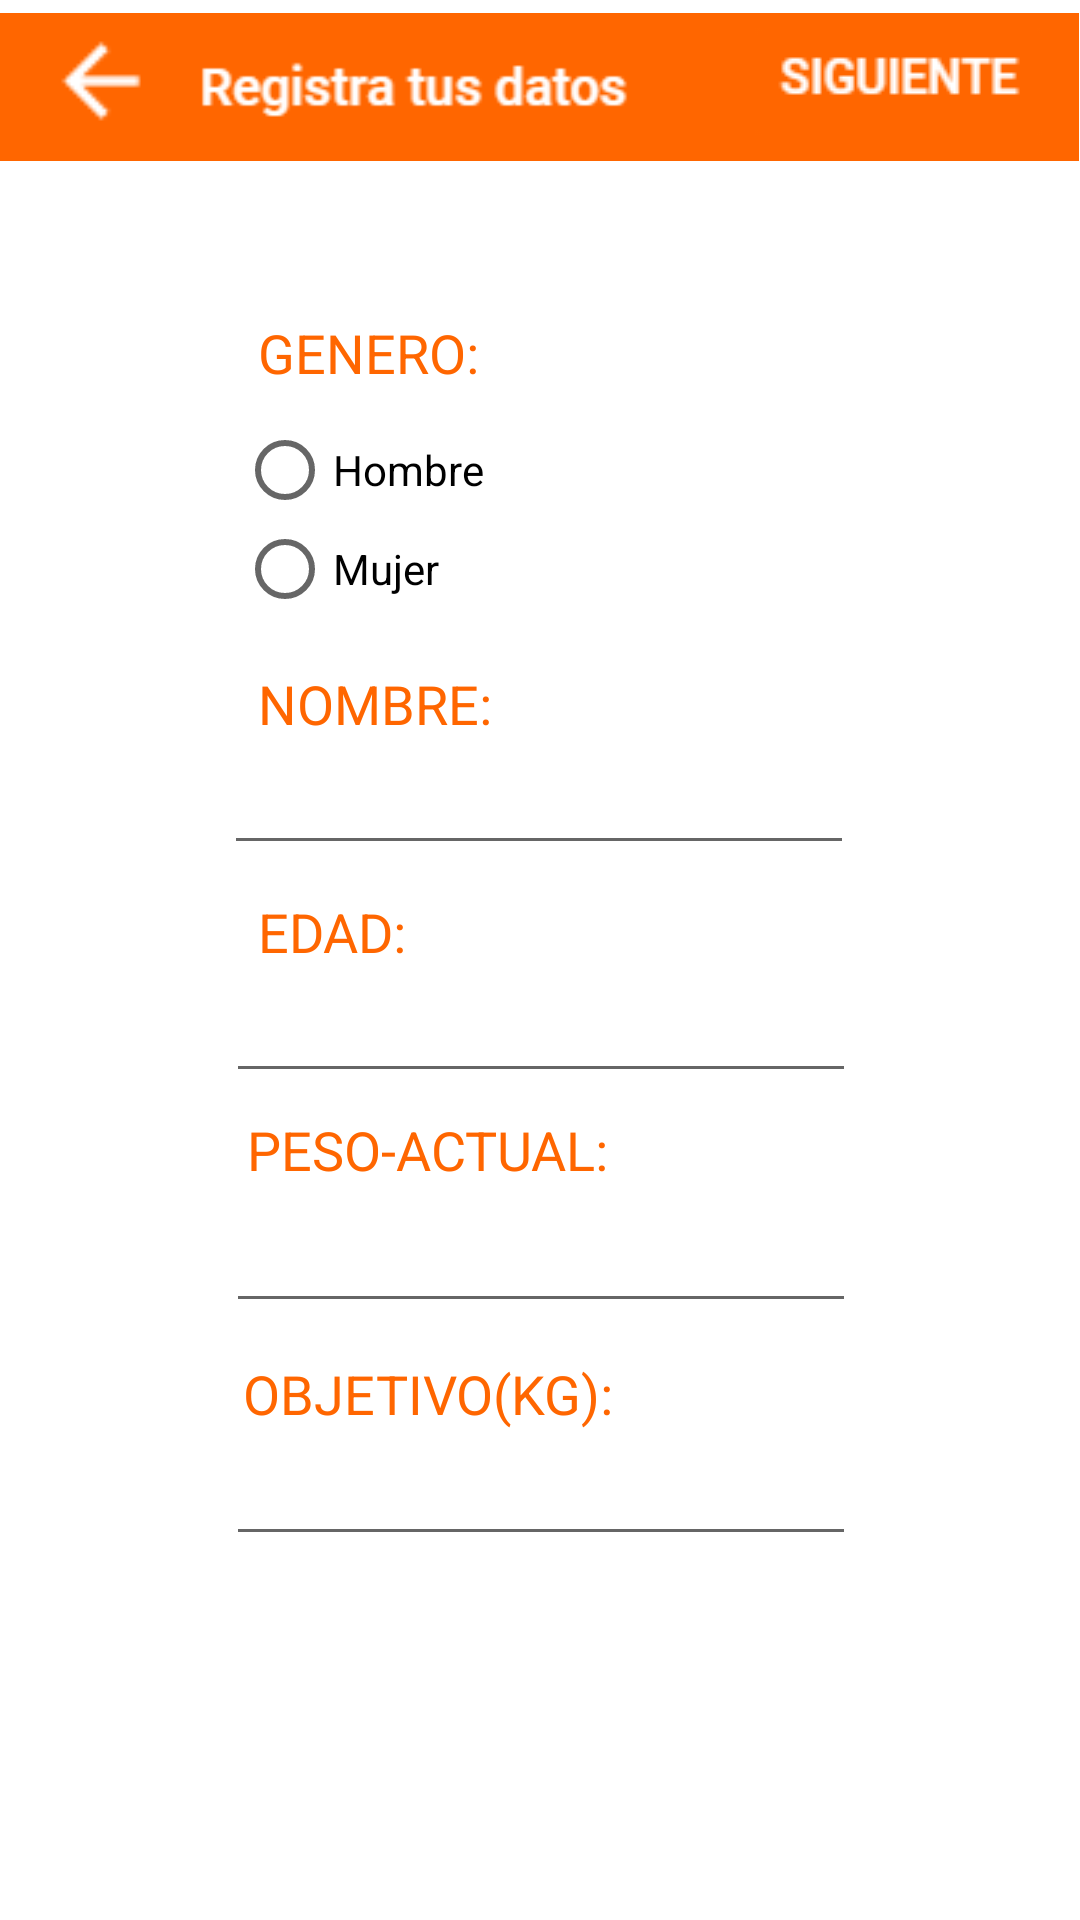

Icon click points for this 1080×1920 phone screenshot, format (x,y):
flechahaciaatras: (101,81)
